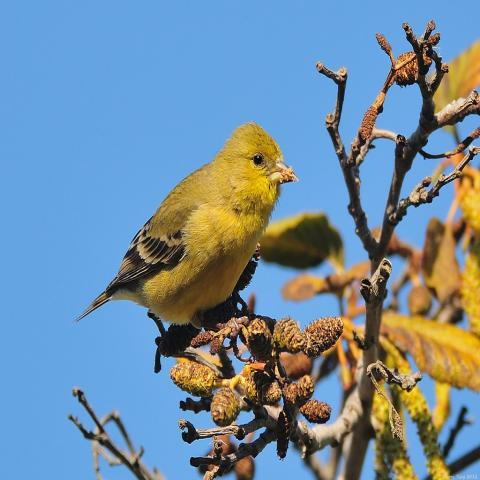bird: (73, 118, 299, 344)
